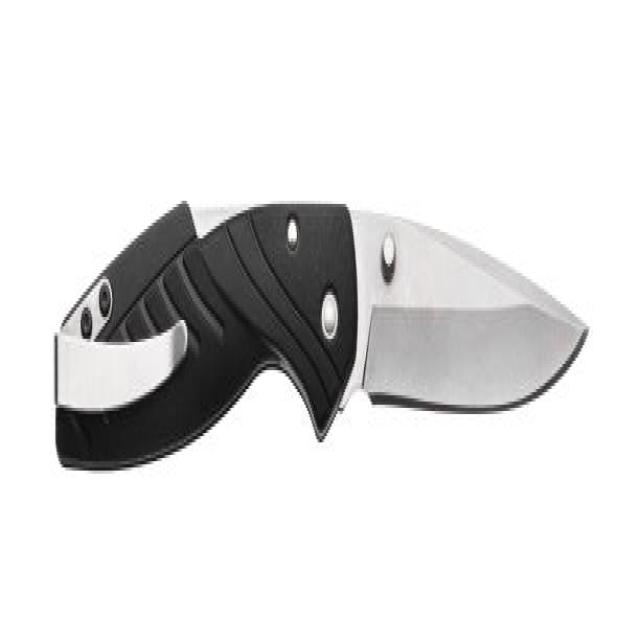knife: (44, 171, 594, 526)
